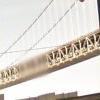Bridge: (7, 46, 98, 81)
